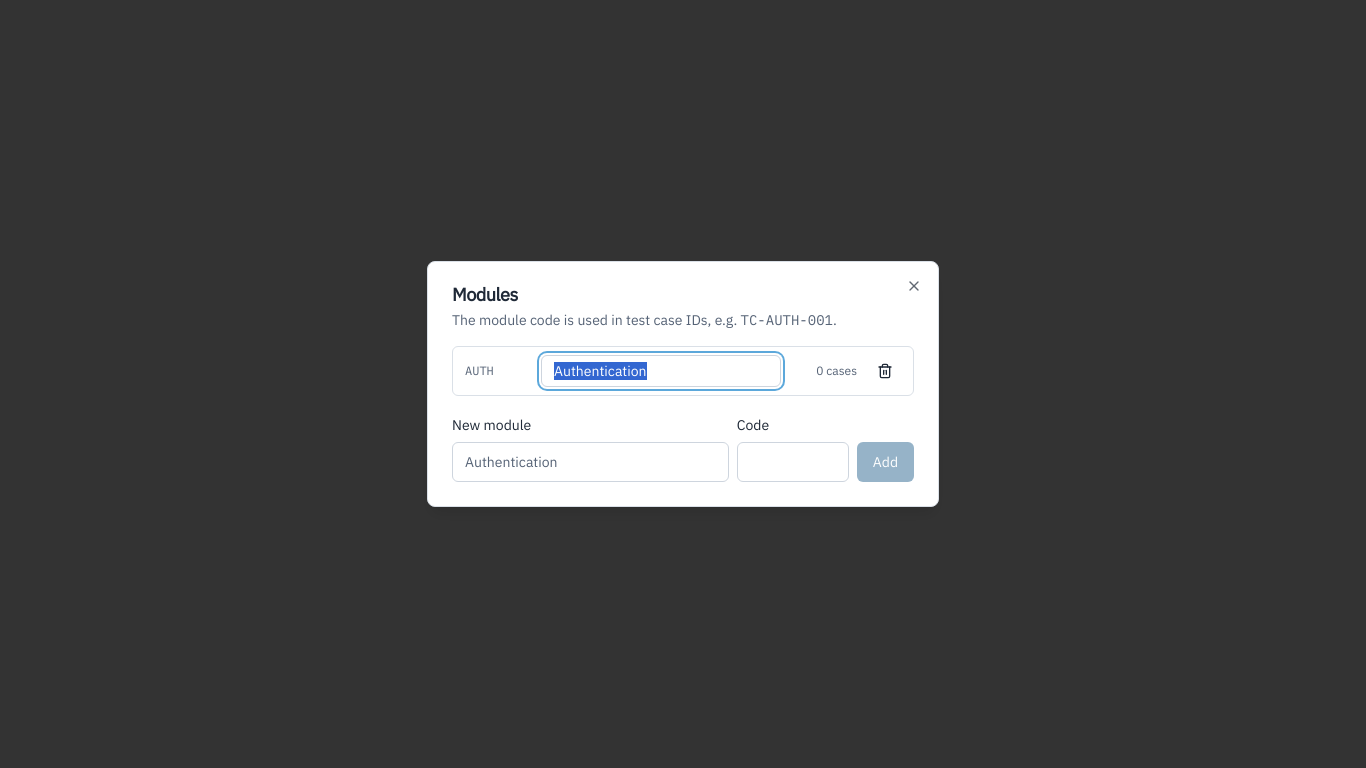
Test: ModulesDialog › reverts the name input to the server value when the rename is rejected
Step 1. Replace the text in the field named "Name of module AUTH" with "Auth v2" → (661, 371), box [541,355,781,387]
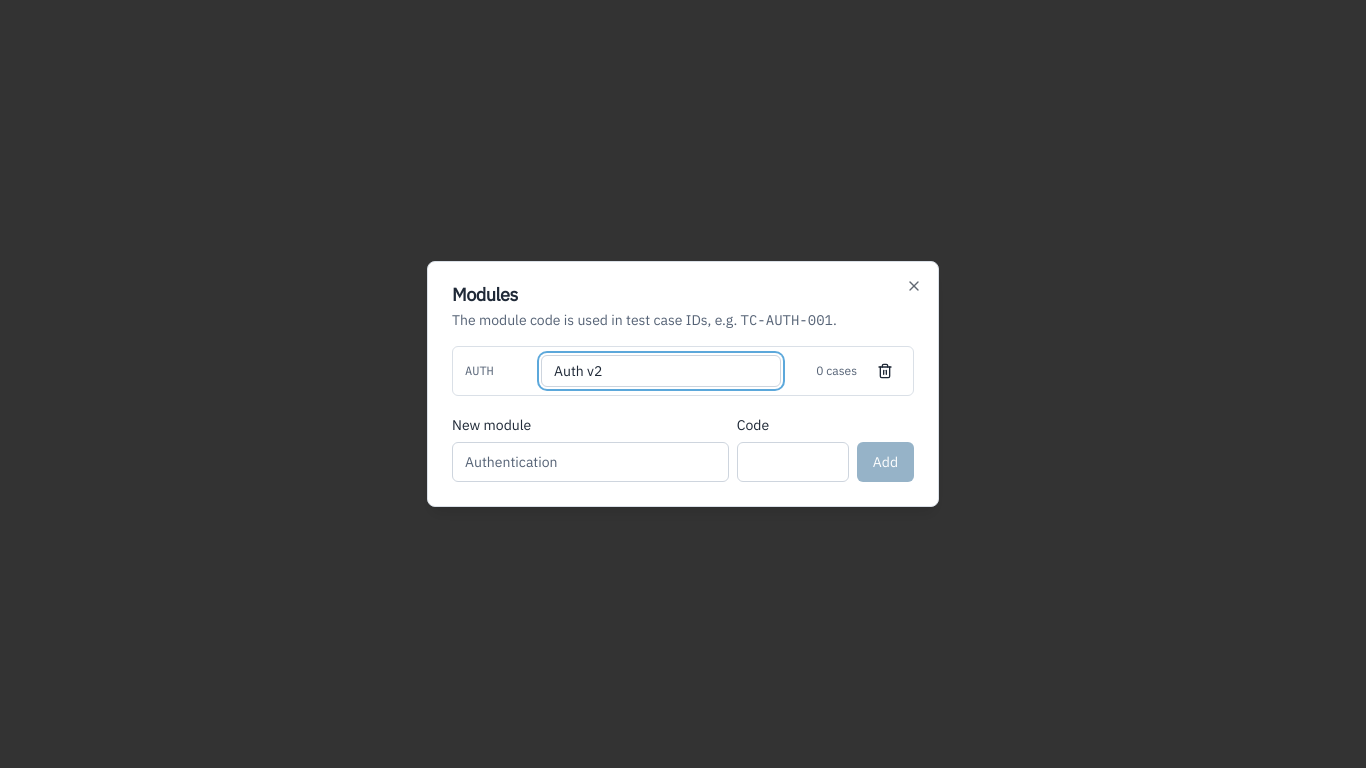
Step 2. Leave the field named "Name of module AUTH", box [541,355,781,387]
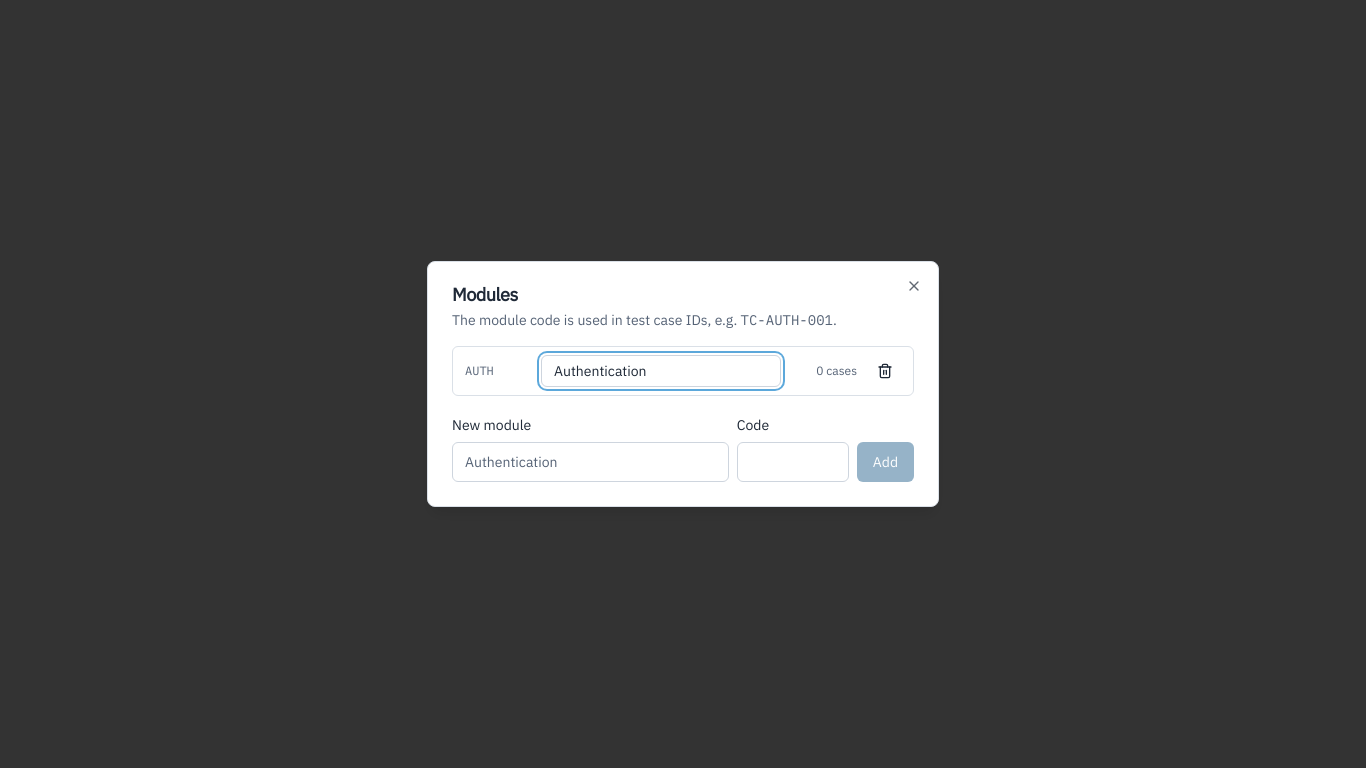
Expected: the field named "Name of module AUTH" holds "Authentication", [541,355,781,387]
